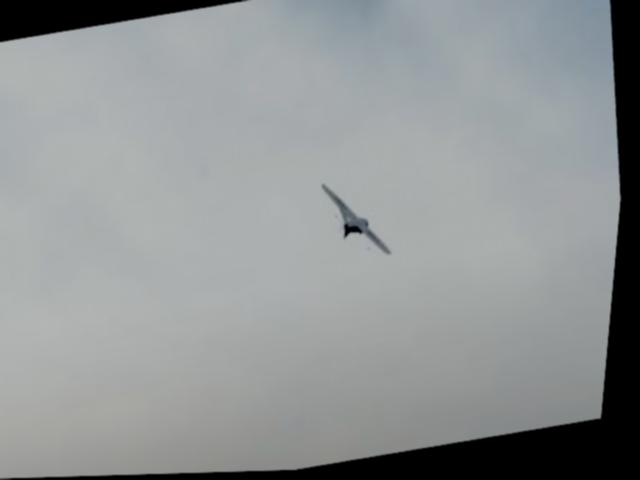uav: (314, 172, 405, 273)
